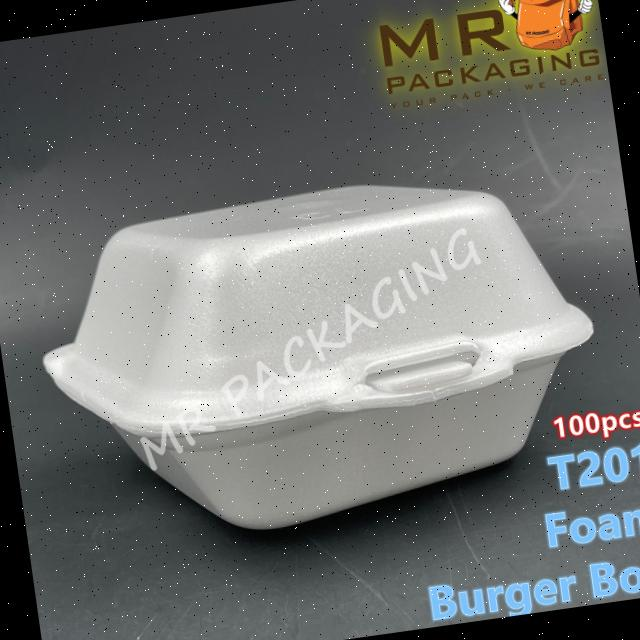styrofoam: (23, 152, 616, 560)
